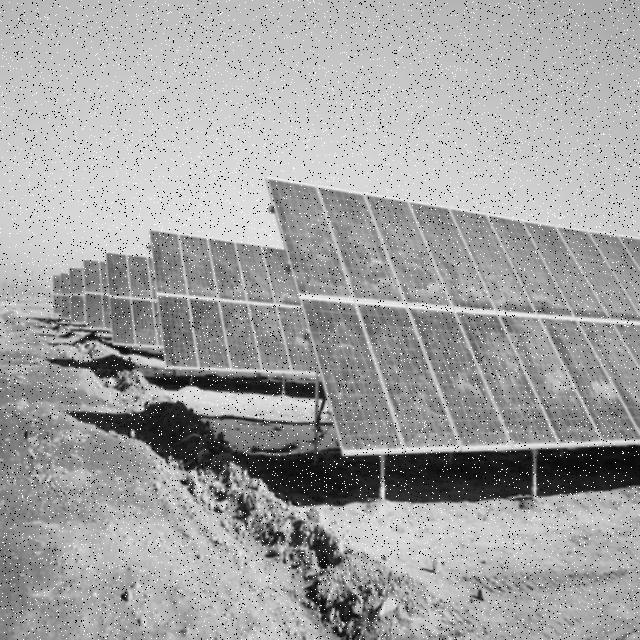dusty: (268, 181, 599, 446), (151, 233, 310, 369), (494, 217, 636, 322), (549, 320, 640, 437)
